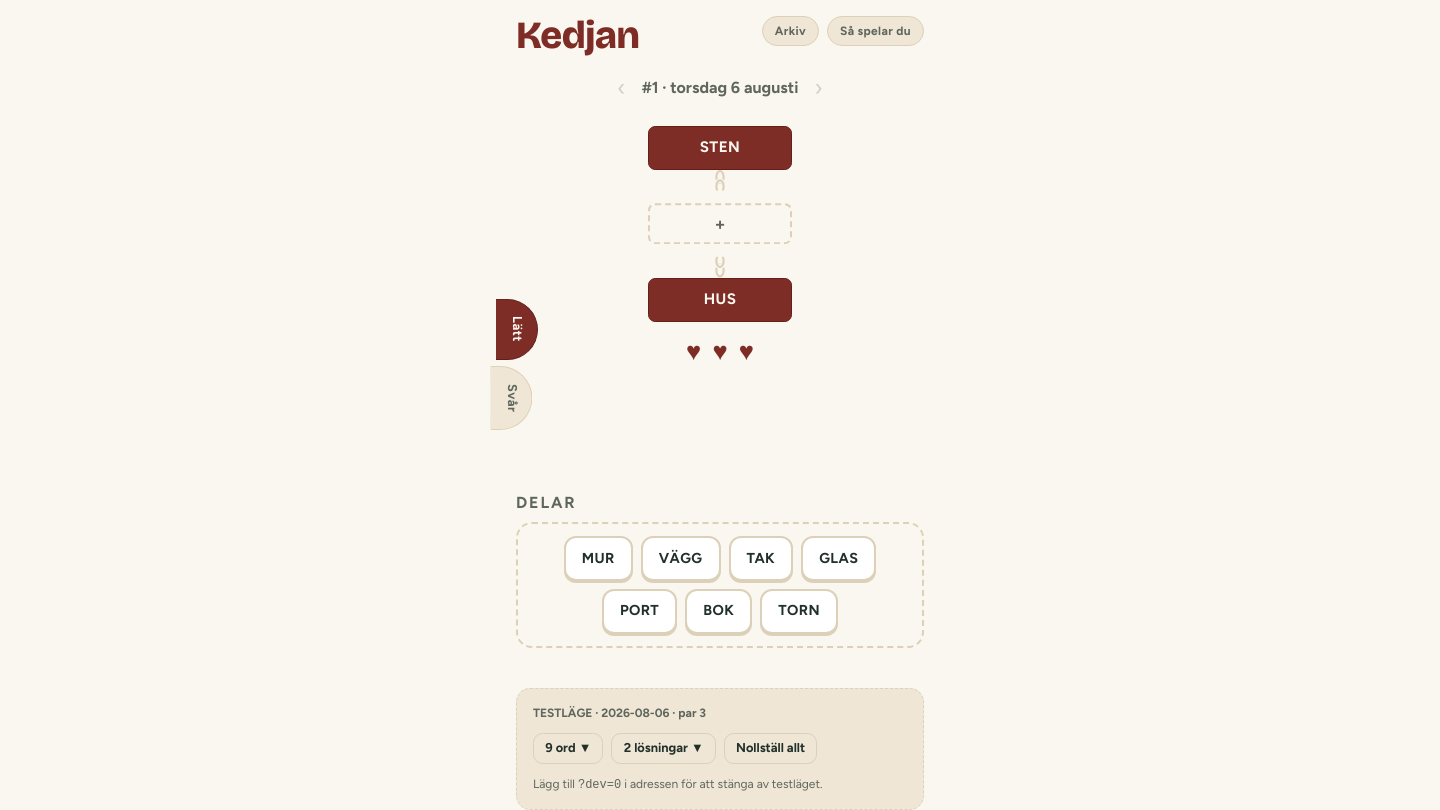
Test case: the route map › leaves long detours undrawn and says how many it left out
Click the button with aria-label "mur.". click: (598, 558)
box: 564,536 -> 633,581
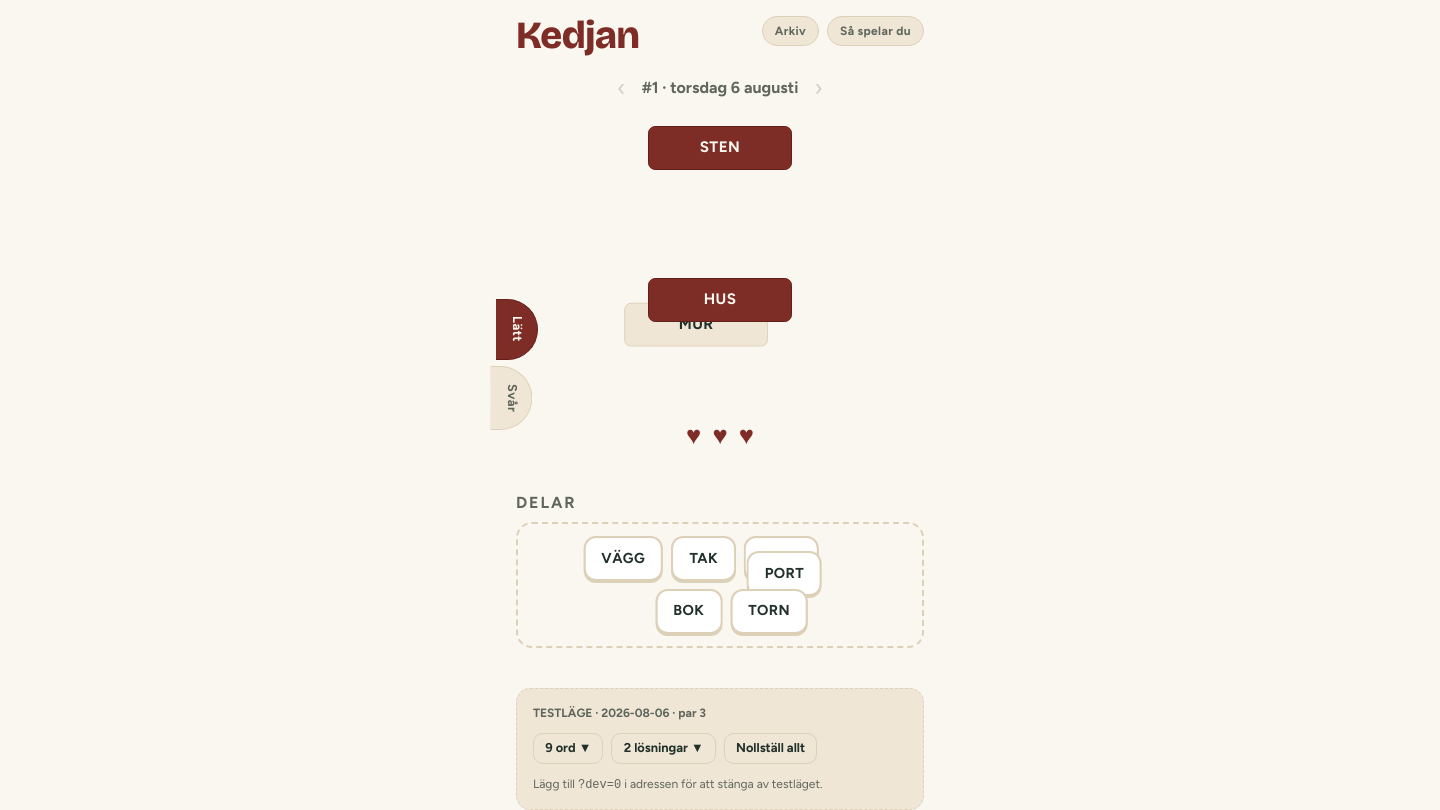
Click the button with aria-label "vägg.". click: (616, 558)
box: 576,536 -> 656,581
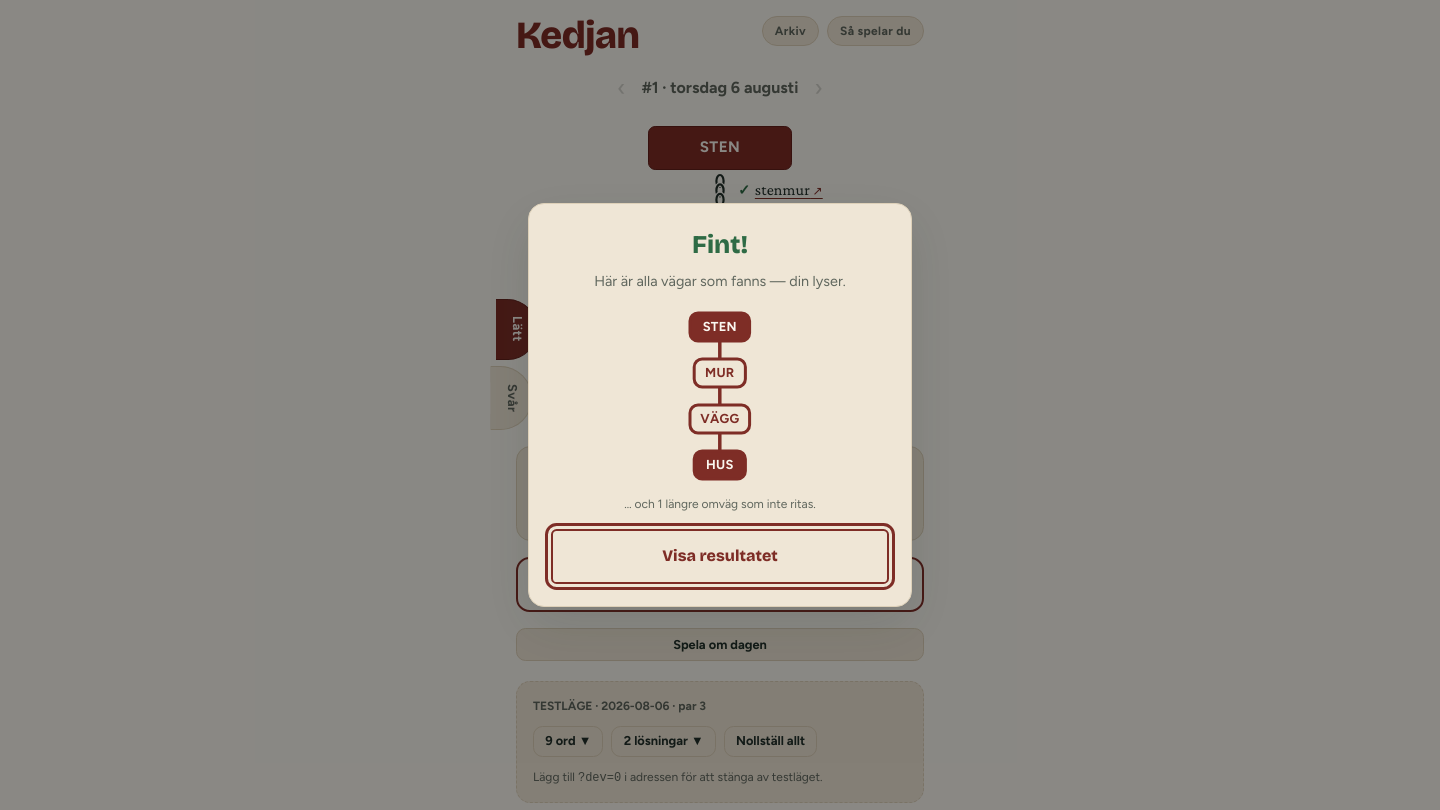
Expected: the text "mur" is shown, 705,366 -> 735,381
Result: the button "torn" is gone
Result: the text "… och 1 längre omväg som inte ritas." is shown at 624,497 -> 816,511
